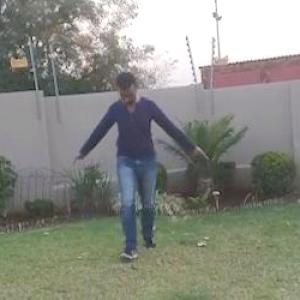land: (50, 58, 200, 282)
